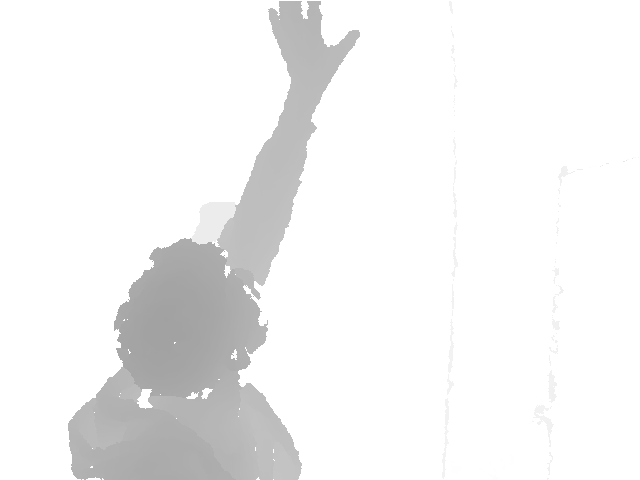hand: (267, 1, 360, 102)
head: (111, 237, 268, 400)
person: (66, 1, 360, 480)
